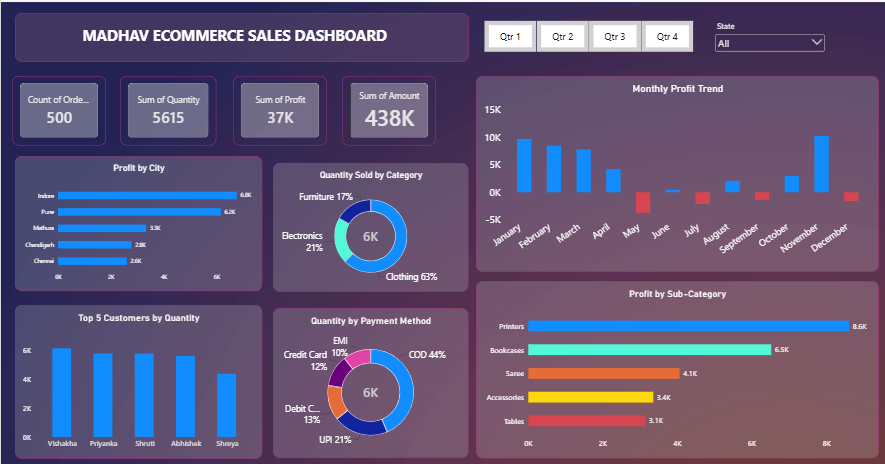

Layout of this report page (visuals, bound fields, positions):
{"tool":"powerbi","page":{"name":"Page 1","canvas":[1920,1080],"ordinal":0},"visuals":[{"type":"columnChart","title":"Monthly Profit Trend","fields":{"Category":["Orders.Order Date.Variation.Date Hierarchy.Month"],"Y":["Sum(Details.Profit)"]},"box":[1025,195,870,422.5],"z":0},{"type":"textbox","box":[30,57.5,980,105],"z":1000},{"type":"barChart","title":"Profit by Sub-Category","fields":{"Category":["Details.Sub-Category"],"Y":["Sum(Details.Profit)"]},"box":[1025,637.5,870,382.5],"z":2000},{"type":"donutChart","title":"Quantity Sold by Category","fields":{"Category":["Details.Category"],"Y":["Sum(Details.Quantity)"]},"box":[588,382,422,278],"z":3000},{"type":"donutChart","title":"Quantity by Payment Method","fields":{"Category":["Details.PaymentMode"],"Y":["Sum(Details.Quantity)"]},"box":[588,696,422,324],"z":4000},{"type":"cardVisual","fields":{"Data":["Sum(Details.Amount)"]},"box":[736,194,203,150],"z":5000},{"type":"cardVisual","title":"Profit","fields":{"Data":["Sum(Details.Profit)"]},"box":[502,194,203,150],"z":6000},{"type":"cardVisual","title":"Profit","fields":{"Data":["Sum(Details.Quantity)"]},"box":[258,194,208,150],"z":7000},{"type":"cardVisual","title":"Profit","fields":{"Data":["Count(Details.Order ID)"]},"box":[24,194,203,150],"z":8000},{"type":"clusteredBarChart","title":"Profit by City","fields":{"Category":["Orders.City"],"Y":["Sum(Details.Profit)"]},"box":[30,368,534,292],"z":8001},{"type":"columnChart","title":"Top 5 Customers by Quantity","fields":{"Category":["Orders.CustomerName"],"Y":["Sum(Details.Amount)"]},"box":[30,688,534,332],"z":8002},{"type":"slicer","fields":{"Values":["Orders.Order Date.Variation.Date Hierarchy.Quarter"]},"box":[1024,74,490,70],"z":8003},{"type":"slicer","fields":{"Values":["Orders.State"]},"box":[1537.5,77.5,246,64],"z":8004}]}

Visuals, with their boxes on the page's 1920x1080 design canvas (x1, y1, x2, y2). These are canvas units, not pixel positions in the 885x464 screenshot, which may show the page scaled, cropped or inside an application window:
"Monthly Profit Trend" columnChart: x1=1025 y1=195 x2=1895 y2=618
textbox: x1=30 y1=58 x2=1010 y2=162
"Profit by Sub-Category" barChart: x1=1025 y1=638 x2=1895 y2=1020
"Quantity Sold by Category" donutChart: x1=588 y1=382 x2=1010 y2=660
"Quantity by Payment Method" donutChart: x1=588 y1=696 x2=1010 y2=1020
cardVisual - Sum(Details.Amount): x1=736 y1=194 x2=939 y2=344
"Profit" cardVisual: x1=502 y1=194 x2=705 y2=344
"Profit" cardVisual: x1=258 y1=194 x2=466 y2=344
"Profit" cardVisual: x1=24 y1=194 x2=227 y2=344
"Profit by City" clusteredBarChart: x1=30 y1=368 x2=564 y2=660
"Top 5 Customers by Quantity" columnChart: x1=30 y1=688 x2=564 y2=1020
slicer - Orders.Order Date.Variation.Date Hierarchy.Quarter: x1=1024 y1=74 x2=1514 y2=144
slicer - Orders.State: x1=1538 y1=78 x2=1784 y2=142
